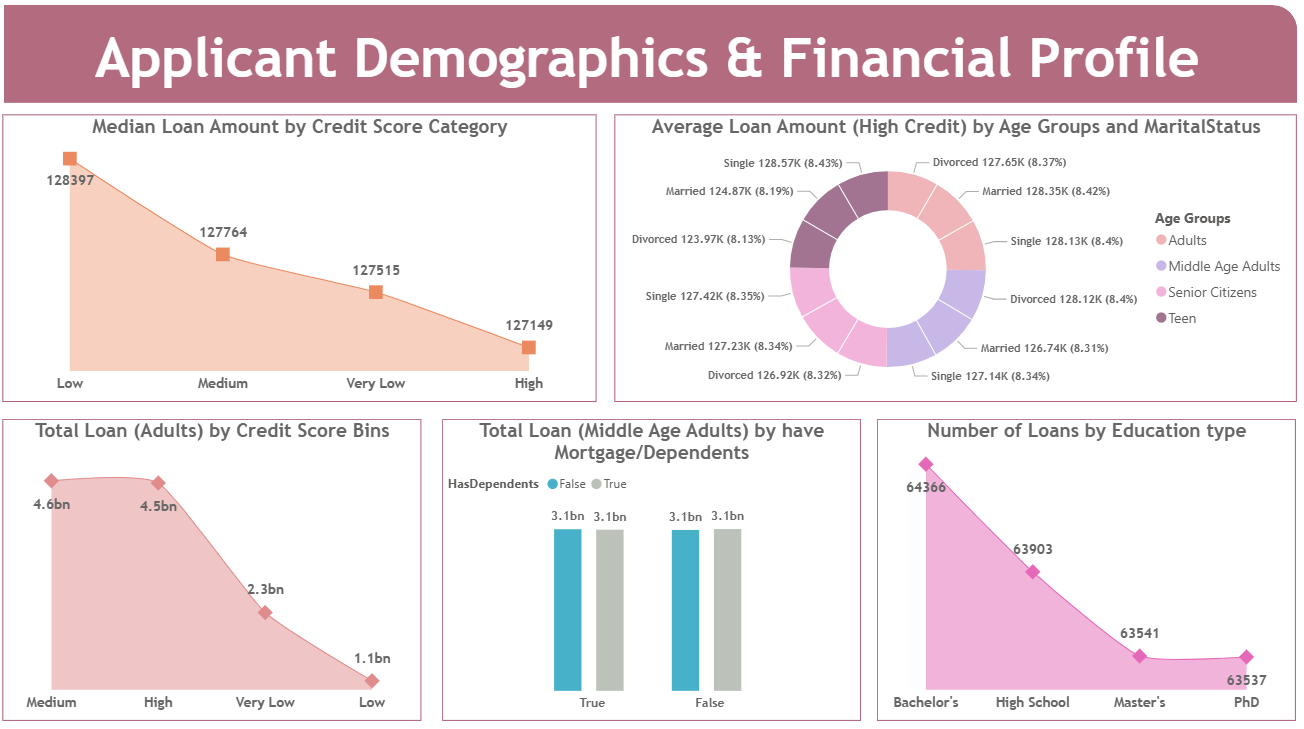

This screenshot's page, from the dashboard's own definition file:
{"tool":"powerbi","page":{"name":"Applicant Demographics & Financial Profile","canvas":[1280,720],"ordinal":1},"visuals":[{"type":"shape","box":[8.1,11.3,1260,95.6],"z":0},{"type":"lineChart","title":"Median Loan Amount by Credit Score Category","fields":{"Y":["Measures Table2.Median by Credit score bins"],"Category":["Loan_default.Credit Score Bins"]},"box":[8,118.1,578.5,280],"z":1000},{"type":"donutChart","fields":{"Y":["Measures Table2.Average Loan Amount (High Credit)"],"Series":["Loan_default.MaritalStatus"],"Category":["Loan_default.Age Groups"]},"box":[603.7,118.1,664.7,280],"z":2000},{"type":"lineChart","title":"Total Loan (Adults) by Credit Score Bins","fields":{"Category":["Loan_default.Credit Score Bins"],"Y":["Measures Table2.Total Loan (Credit Bins)"]},"box":[7.7,415.4,407.7,293.8],"z":3000},{"type":"clusteredColumnChart","title":"Total Loan (Middle Age Adults) by have Mortgage/Dependents","fields":{"Y":["Measures Table2.Total Loan (Middle Age Adults)"],"Category":["Loan_default.HasMortgage"],"Series":["Loan_default.HasDependents"]},"box":[435.4,415.4,407.7,293.8],"z":4000},{"type":"lineChart","title":"Number of Loans by Education type","fields":{"Y":["Measures Table2.Loans by Education type"],"Category":["Loan_default.Education"]},"box":[860,415.4,407.7,293.8],"z":5000}]}

Visuals, with their boxes in screenshot pixels (x1, y1, x2, y2), scaled from the page's 1280x720 canvas onto the 1304x729 screenshot:
shape: 8/11/1292/108
"Median Loan Amount by Credit Score Category" lineChart: 8/120/597/403
donutChart - Measures Table2.Average Loan Amount (High Credit) x Loan_default.MaritalStatus: 615/120/1292/403
"Total Loan (Adults) by Credit Score Bins" lineChart: 8/421/423/718
"Total Loan (Middle Age Adults) by have Mortgage/Dependents" clusteredColumnChart: 444/421/859/718
"Number of Loans by Education type" lineChart: 876/421/1291/718
